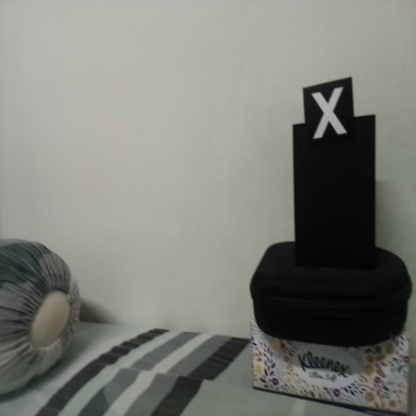id_13: (304, 86, 354, 147)
